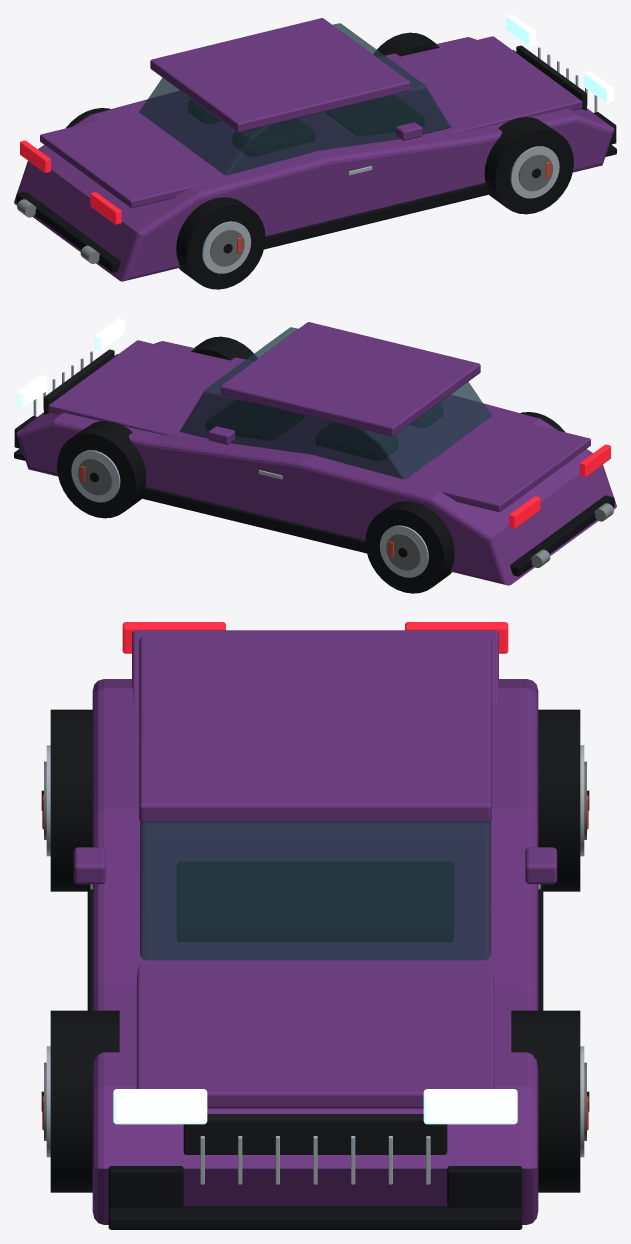
File: violet-vandal.glb
3 views of the same model, one above another, from view 1: azimuth 30°, elevation 25°; view 2: azimuth 150°, elevation 25°; view 3: azimuth 270°, elevation 25° (orthographic). The views are drawn at different scales.
Parts seen in each view (by area): view 1: sculpted_body, roof, glasshouse, hood_center, rear_deck, front_right_wheel_tire, rear_right_wheel_tire, side_skirt_1, dashboard, seat_1, rear_diffuser, rear_right_wheel_rim (+11 smaller); view 2: sculpted_body, roof, glasshouse, hood_center, rear_deck, front_left_wheel_tire, rear_left_wheel_tire, side_skirt_-1, dashboard, seat_-1, rear_diffuser, rear_left_wheel_rim (+11 smaller); view 3: sculpted_body, roof, hood_center, glasshouse, dashboard, front_grille, front_splitter, front_left_wheel_tire, front_right_wheel_tire, rear_left_wheel_tire, rear_right_wheel_tire, rear_deck (+8 smaller).
Part boxes in pixels (x1=…): sculpted_body: x1=14, y1=37, x2=614, y2=281; roof: x1=150, y1=18, x2=410, y2=132; glasshouse: x1=139, y1=23, x2=451, y2=175; hood_center: x1=386, y1=36, x2=582, y2=132; rear_deck: x1=40, y1=115, x2=210, y2=208; front_right_wheel_tire: x1=484, y1=117, x2=573, y2=214; rear_right_wheel_tire: x1=176, y1=197, x2=265, y2=289; side_skirt_1: x1=264, y1=182, x2=490, y2=249; dashboard: x1=325, y1=95, x2=424, y2=136; seat_1: x1=233, y1=119, x2=314, y2=156; rear_diffuser: x1=16, y1=191, x2=120, y2=272; rear_right_wheel_rim: x1=202, y1=221, x2=251, y2=273; sculpted_body: x1=16, y1=341, x2=616, y2=585; roof: x1=220, y1=322, x2=480, y2=436; glasshouse: x1=179, y1=327, x2=491, y2=479; hood_center: x1=48, y1=340, x2=244, y2=436; rear_deck: x1=420, y1=419, x2=590, y2=512; front_left_wheel_tire: x1=57, y1=421, x2=146, y2=518; rear_left_wheel_tire: x1=365, y1=501, x2=454, y2=593; side_skirt_-1: x1=140, y1=486, x2=366, y2=553; dashboard: x1=206, y1=399, x2=305, y2=440; seat_-1: x1=316, y1=423, x2=397, y2=460; rear_diffuser: x1=510, y1=495, x2=614, y2=576; rear_left_wheel_rim: x1=379, y1=525, x2=428, y2=577; sculpted_body: x1=92, y1=679, x2=538, y2=1224; roof: x1=139, y1=637, x2=491, y2=822; hood_center: x1=136, y1=963, x2=494, y2=1108; glasshouse: x1=140, y1=821, x2=490, y2=960; dashboard: x1=177, y1=862, x2=453, y2=941; front_grille: x1=183, y1=1114, x2=447, y2=1154; front_splitter: x1=108, y1=1206, x2=522, y2=1229; front_left_wheel_tire: x1=511, y1=1010, x2=580, y2=1192; front_right_wheel_tire: x1=50, y1=1010, x2=119, y2=1192; rear_left_wheel_tire: x1=538, y1=709, x2=580, y2=891; rear_right_wheel_tire: x1=50, y1=709, x2=92, y2=891; rear_deck: x1=132, y1=630, x2=498, y2=707.
Size of the model in its own units: 4.84 by 1.26 by 2.22.
